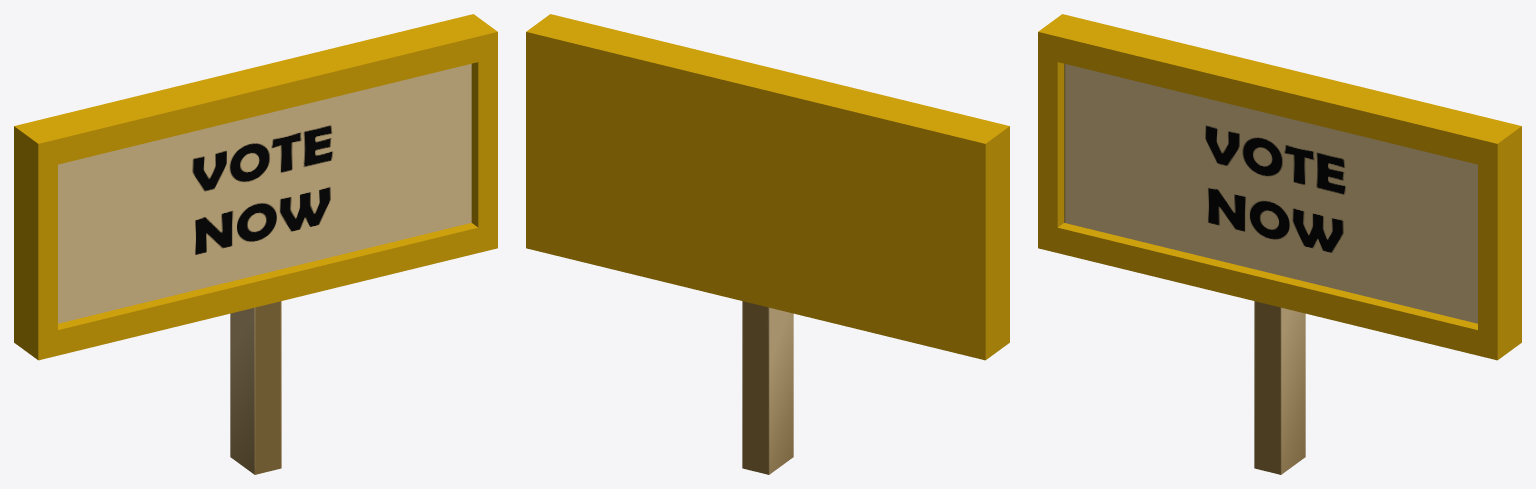
Rendered from signPost_Vote.fbx.
The picture shows the model from 3 angles, left to right: view 1: azimuth 30°, elevation 25°; view 2: azimuth 150°, elevation 25°; view 3: azimuth 330°, elevation 25°; orthographic projection.
Visible parts, largest first — view 1: pCube3; view 2: pCube3; view 3: pCube3.
Part boxes in pixels (x1,y1,x2,y2): pCube3: (14,14,497,474); pCube3: (526,14,1009,474); pCube3: (1038,14,1521,474).
Bounding box in the file's own units: 6.34 × 5.06 × 0.5821.
Materials: 2 (1 with a texture image).
